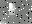person: (11, 5, 19, 19)
